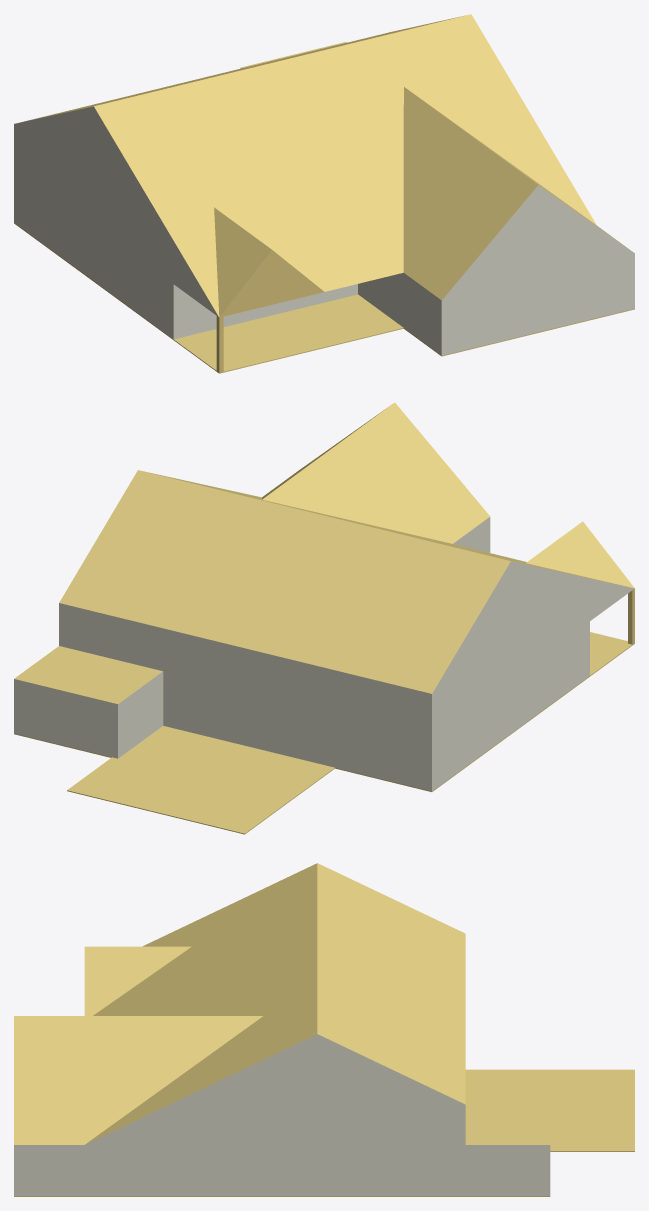
File: house.glb
The picture shows the model from 3 angles, top to bottom: view 1: azimuth 30°, elevation 25°; view 2: azimuth 150°, elevation 25°; view 3: azimuth 270°, elevation 25°; orthographic projection. The views are drawn at different scales.
Bounding box in the file's own units: 43000 × 19100 × 66000.
